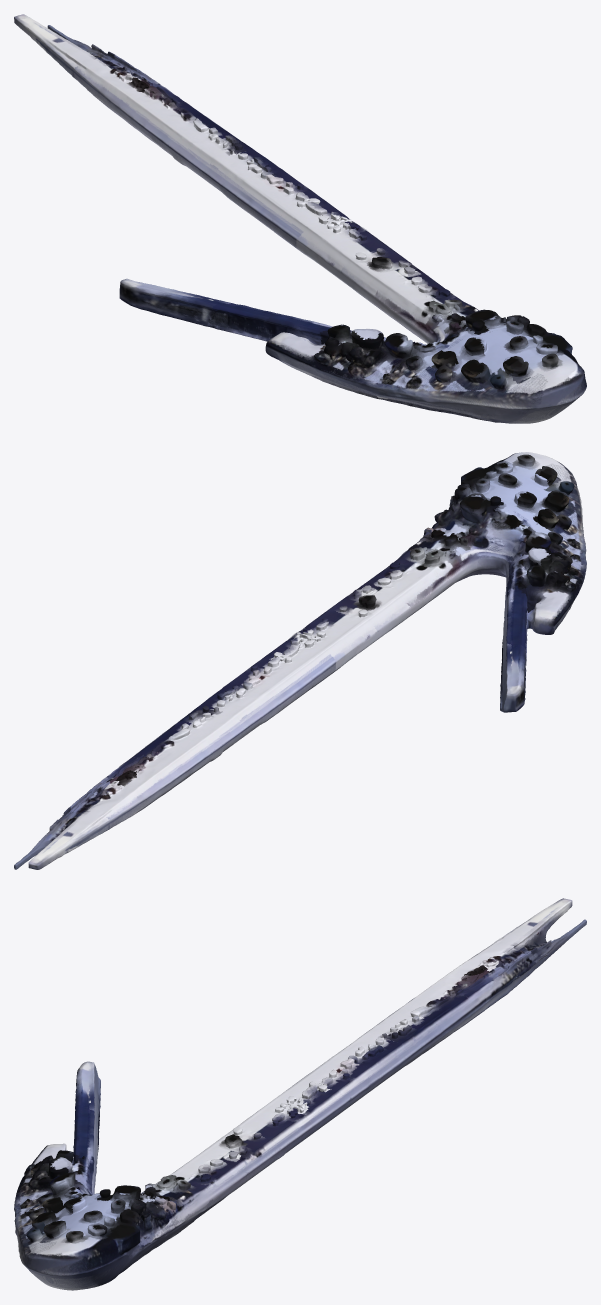
The model's file is center-02.glb.
3 views of the same model, one above another, from view 1: azimuth 30°, elevation 25°; view 2: azimuth 150°, elevation 25°; view 3: azimuth 330°, elevation 25° (orthographic). The views are drawn at different scales.
Bounding box in the file's own units: 0.4161 × 0.0982 × 1.57.
Materials: 1 (1 with a texture image).
